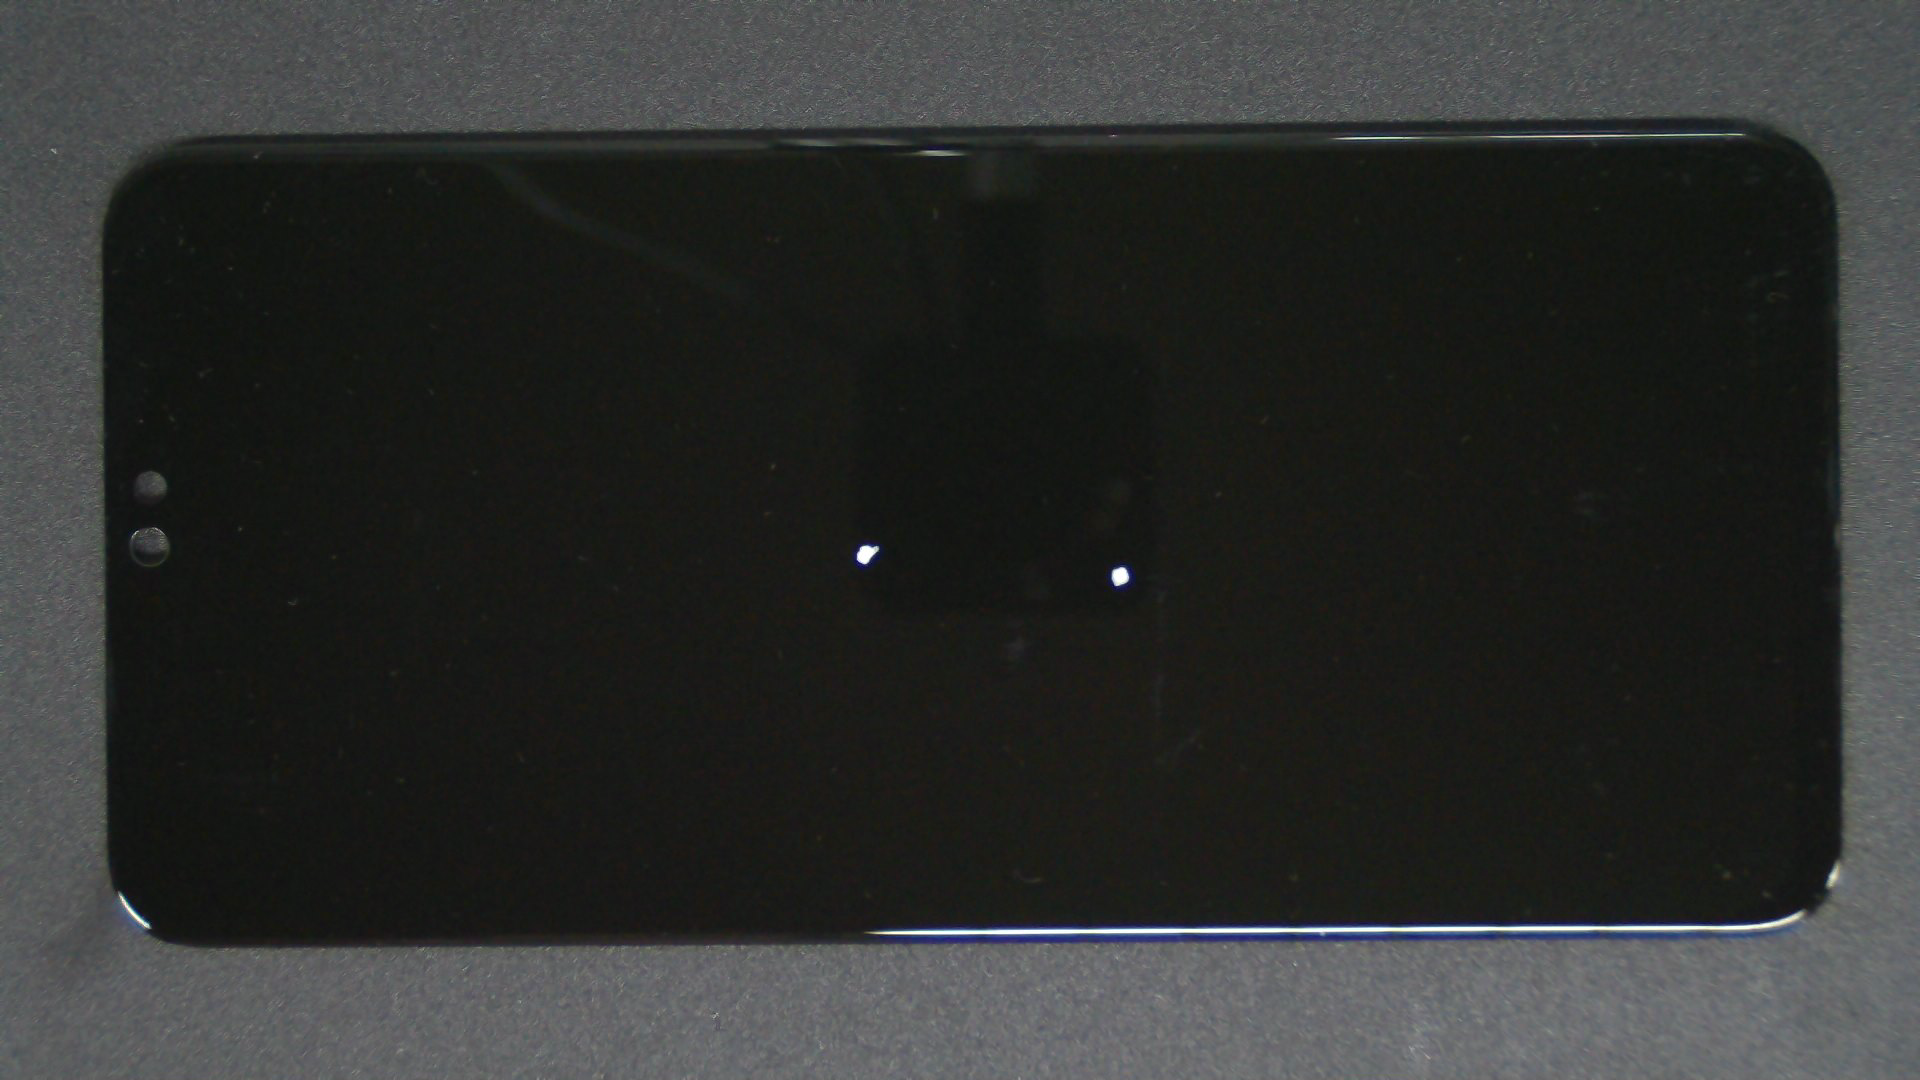defect: (855, 545, 880, 564), (1110, 564, 1130, 587)
